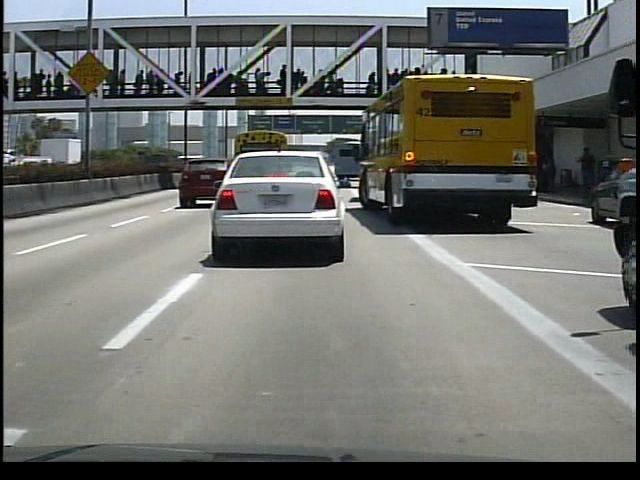person: (573, 145, 603, 207)
